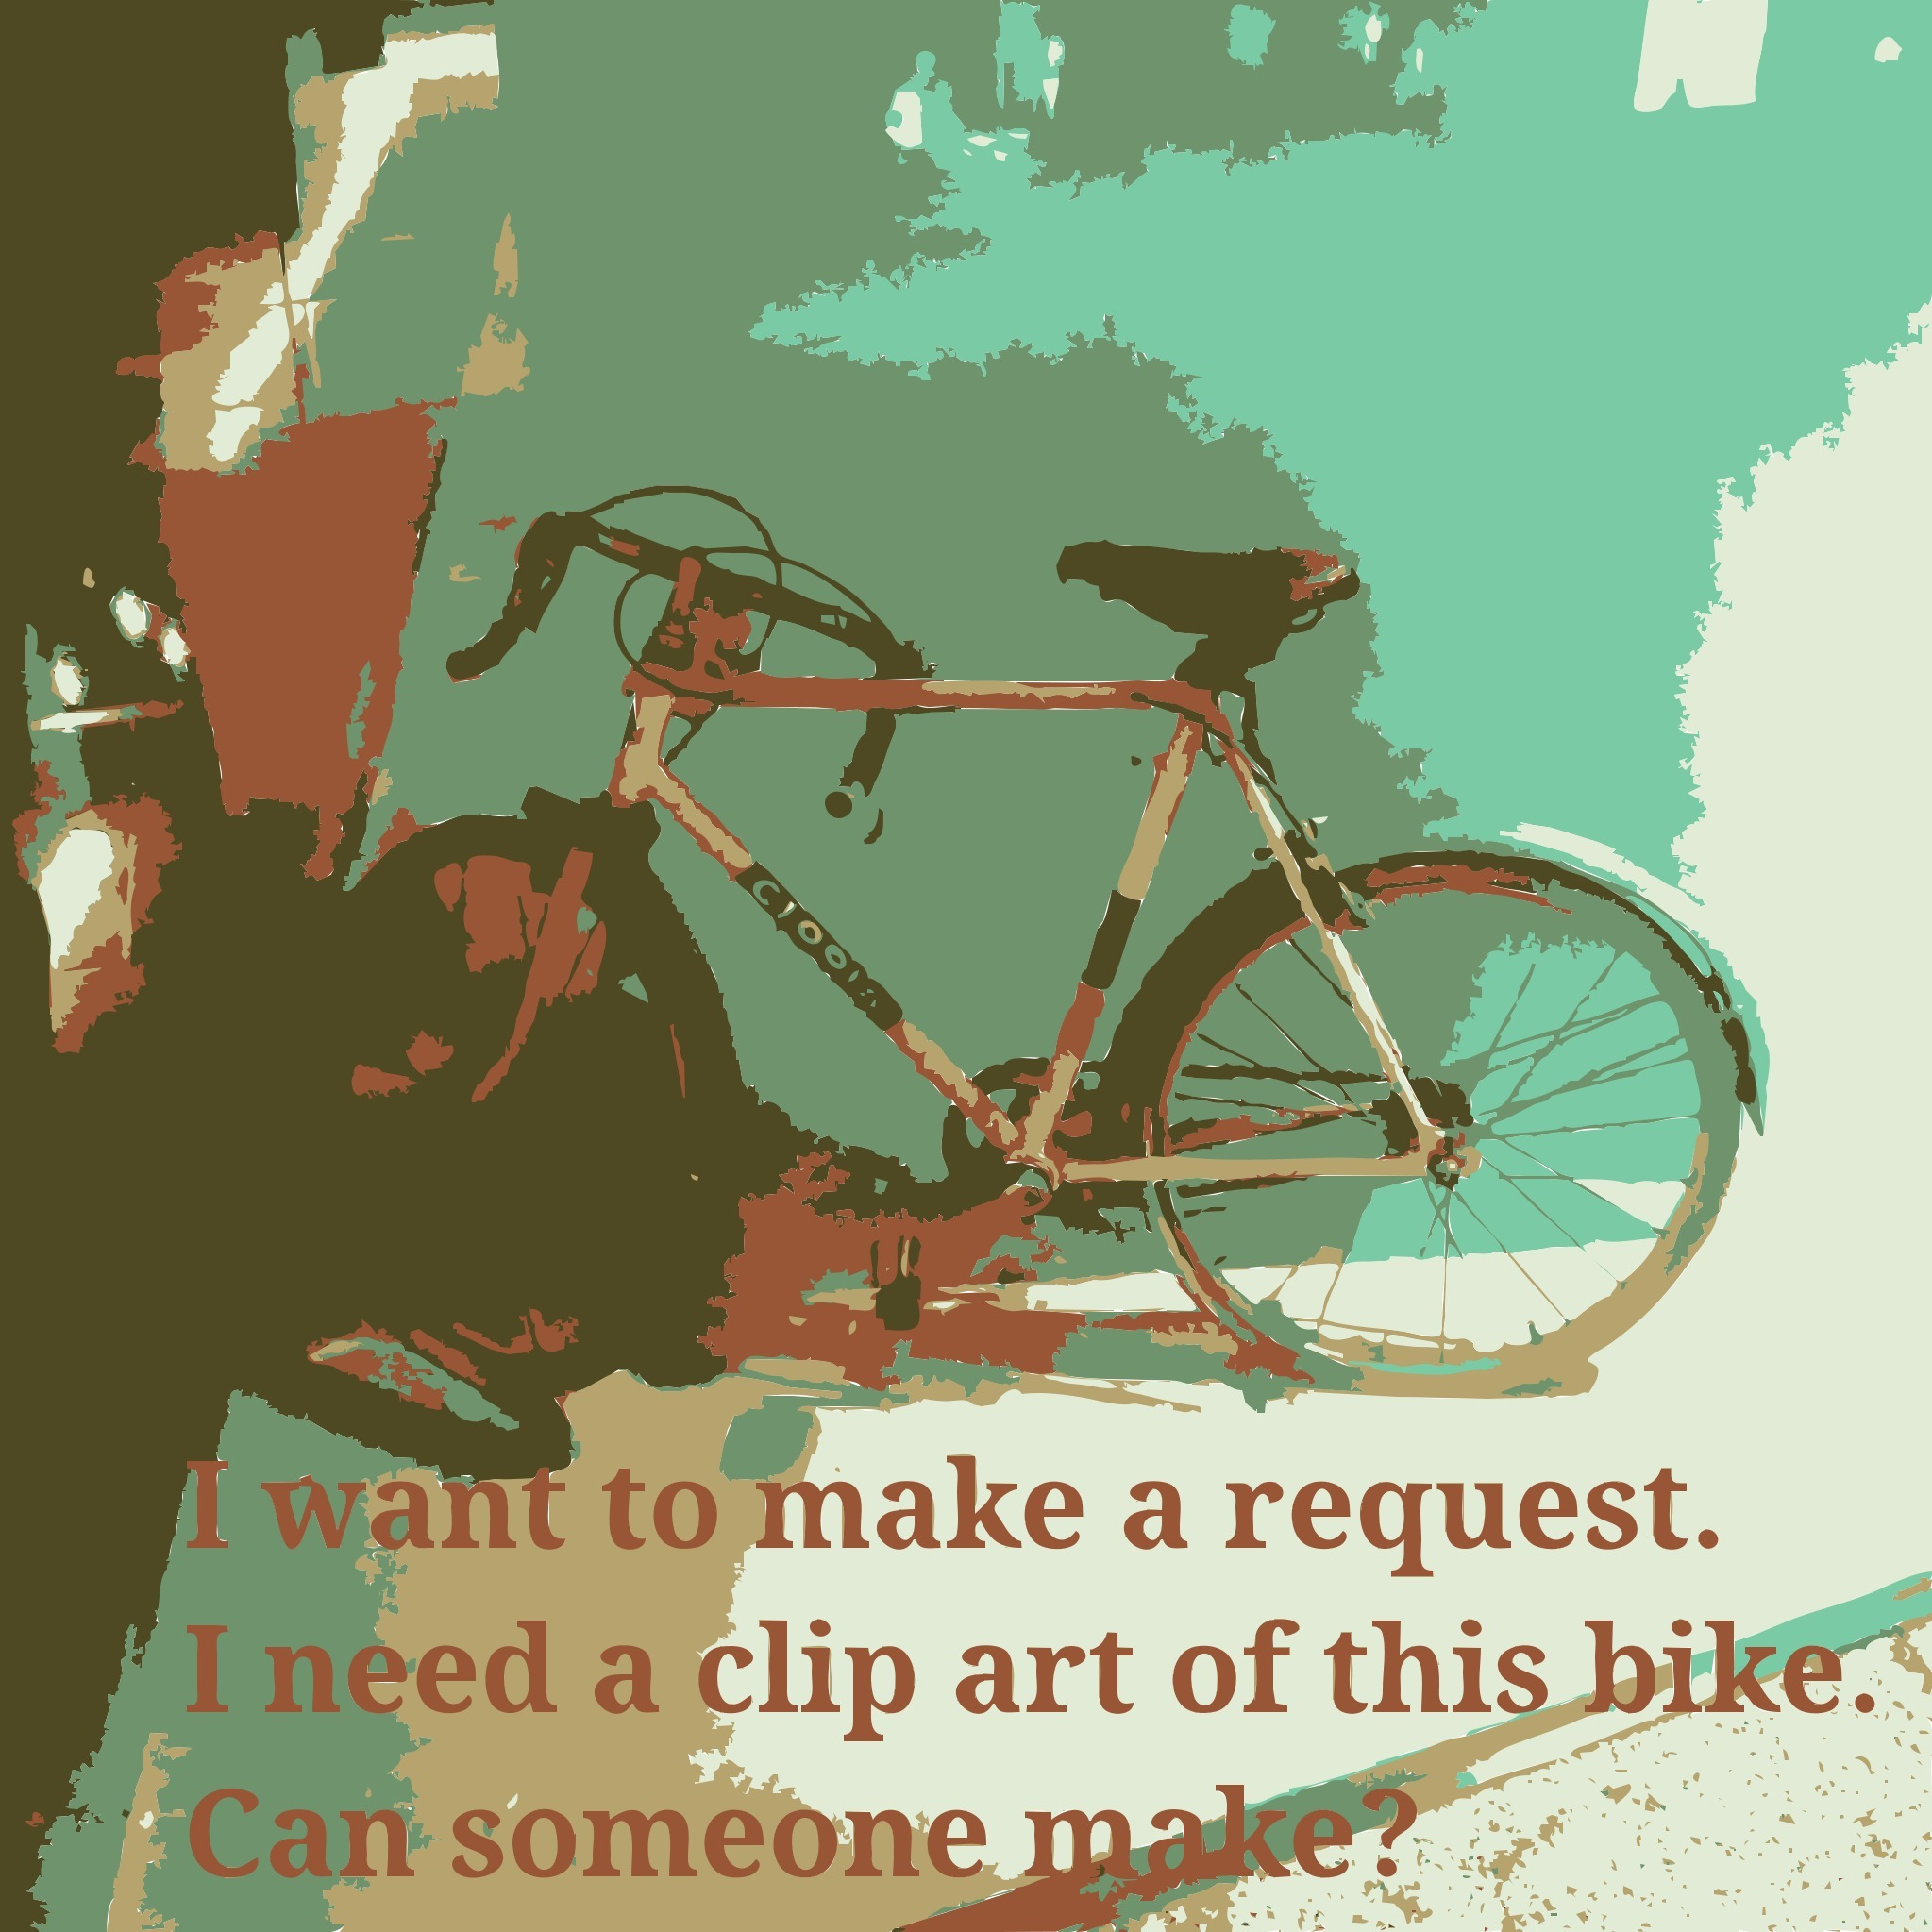bicycle: (349, 469, 1748, 1385)
